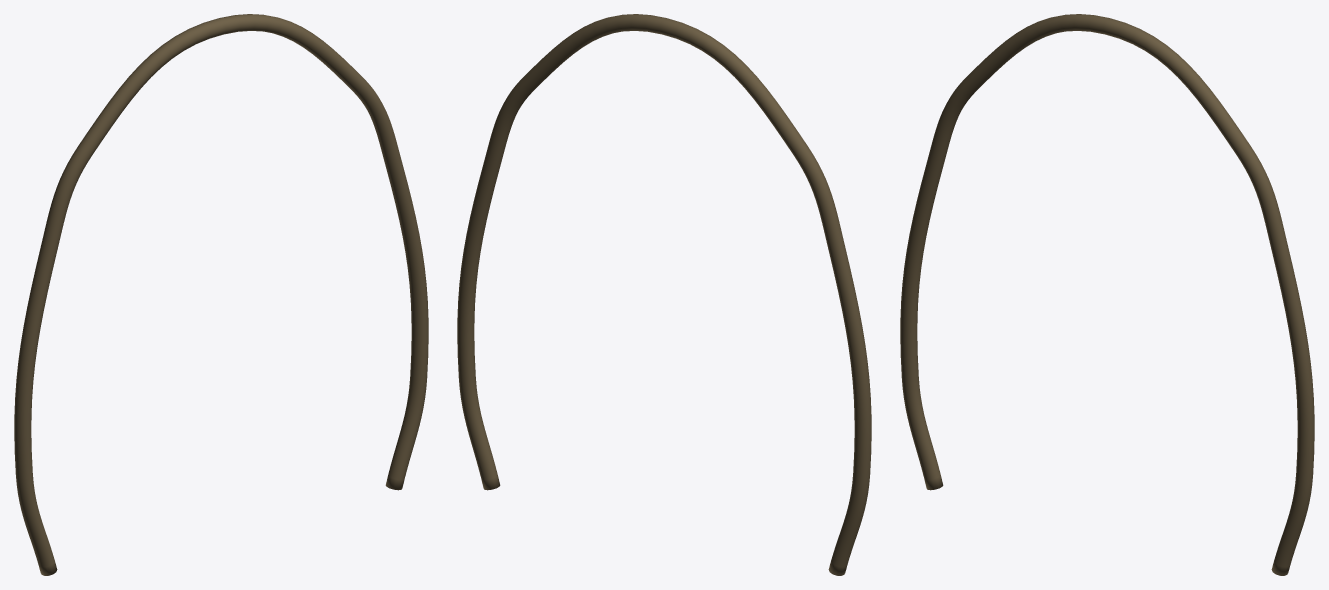
The model's file is handle.glb.
3 renders of one model, left to right at view 1: azimuth 30°, elevation 25°; view 2: azimuth 150°, elevation 25°; view 3: azimuth 330°, elevation 25°, orthographic.
Parts seen in each view (by area): view 1: handle; view 2: handle; view 3: handle.
Boxes of the visible parts, x1,y1,x2,y2 form: handle: (14,14,428,575); handle: (457,14,871,575); handle: (900,14,1314,575).
Bounding box in the file's own units: 0.3344 × 0.3975 × 0.012.
1 material, 1 textured.
